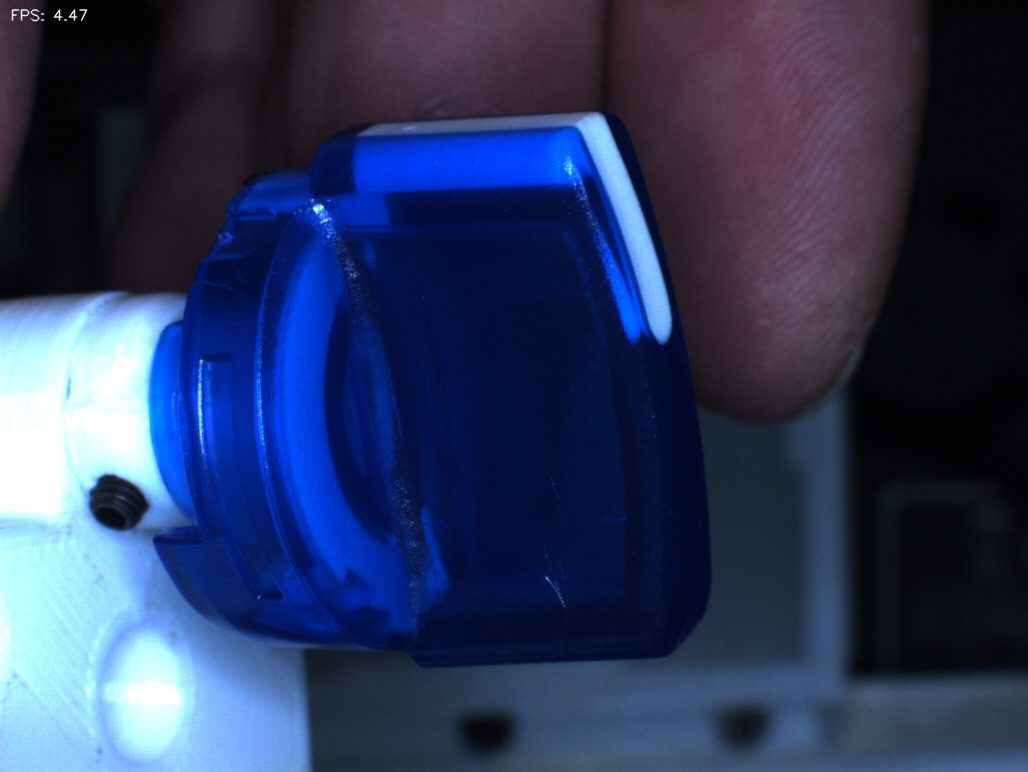Givrage: (505, 458, 603, 659)
